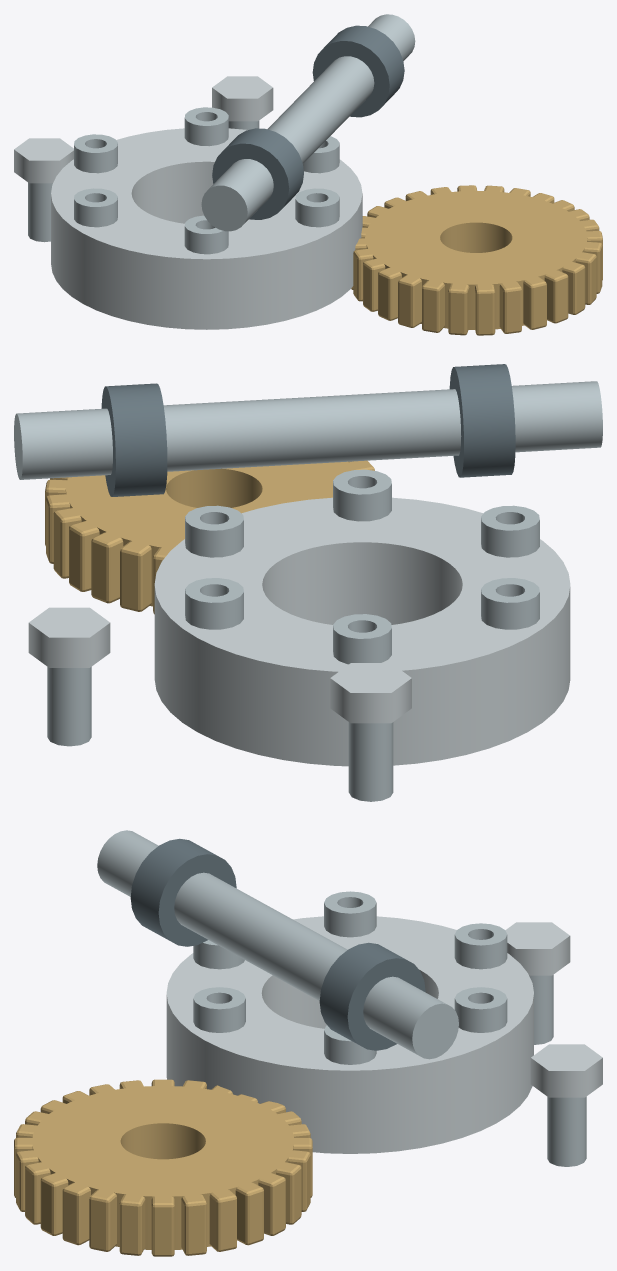
Rendered from loot_scrap.glb.
3 views of the same model, one above another, from view 1: azimuth 30°, elevation 25°; view 2: azimuth 150°, elevation 25°; view 3: azimuth 270°, elevation 25° (orthographic). The views are drawn at different scales.
Visible parts, largest first — view 1: loot_scrap; view 2: loot_scrap; view 3: loot_scrap.
Part boxes in pixels (x1,y1,x2,y2): loot_scrap: [14, 14, 602, 335]; loot_scrap: [14, 364, 602, 801]; loot_scrap: [14, 830, 602, 1256].
Bounding box in the file's own units: 0.1805 × 0.076 × 0.1795.
